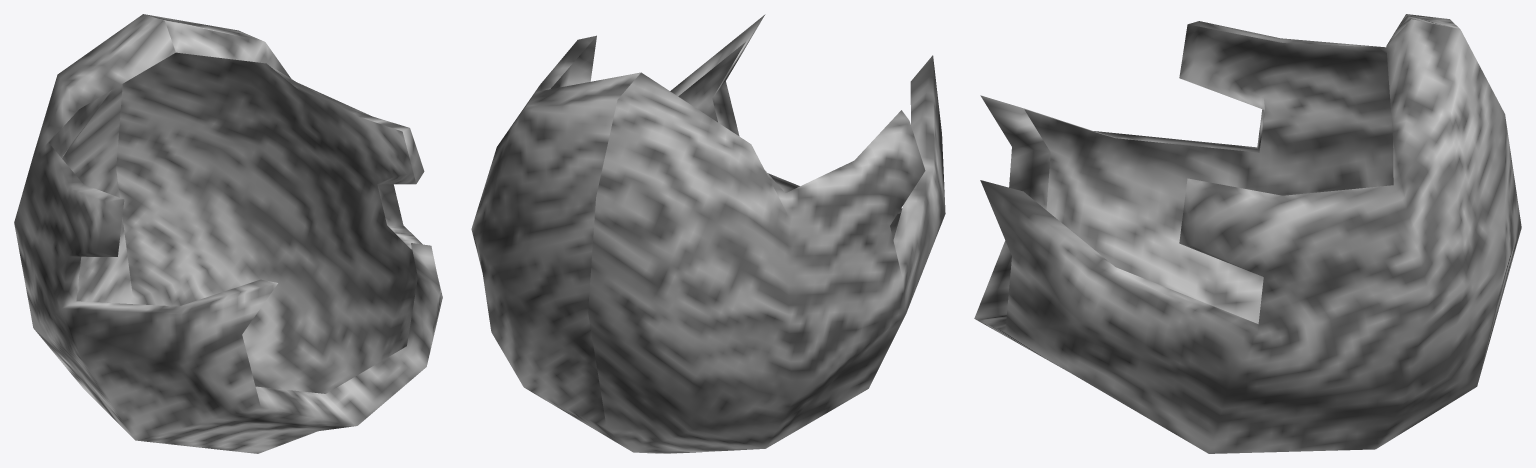
File: Wig_Bob_Hair_ShortHatCurly.fbx
3 renders of one model, left to right at view 1: azimuth 30°, elevation 25°; view 2: azimuth 150°, elevation 25°; view 3: azimuth 270°, elevation 25°, orthographic. The views are drawn at different scales.
Parts seen in each view (by area): view 1: BoxOfJars003; view 2: BoxOfJars003; view 3: BoxOfJars003.
Boxes of the visible parts, <box> form: BoxOfJars003: <box>14,14,442,453</box>; BoxOfJars003: <box>471,14,945,453</box>; BoxOfJars003: <box>974,14,1521,453</box>.
Size of the model in its own units: 12.17 by 12.47 by 14.9.
